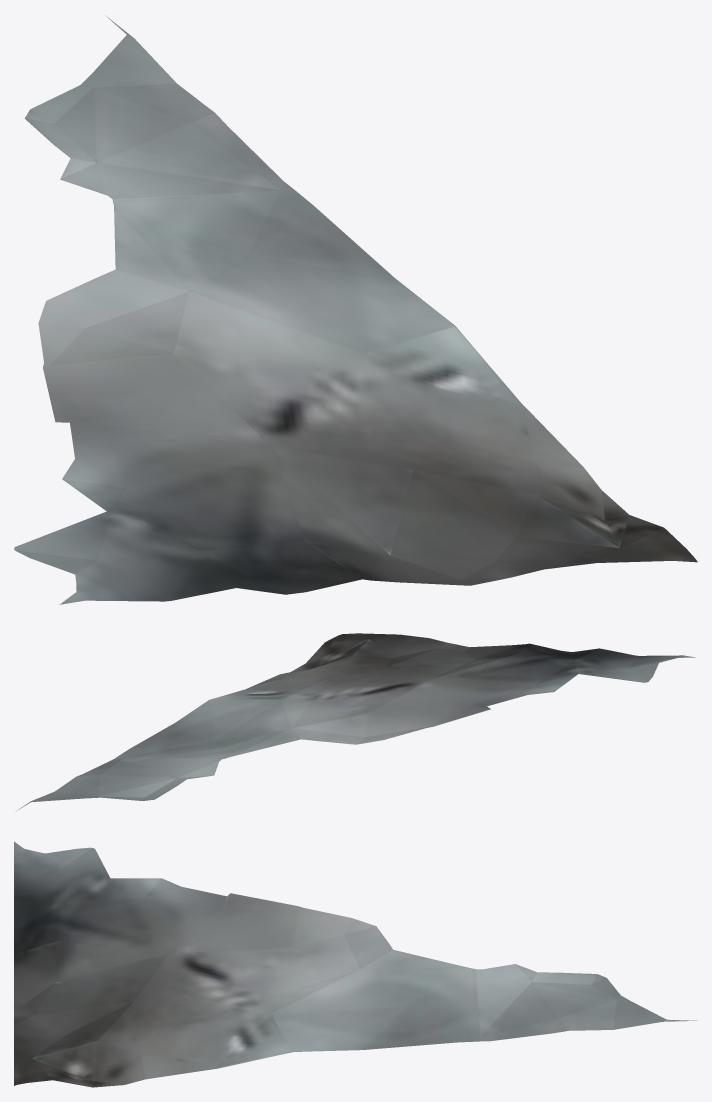
3 views of the same model, one above another, from view 1: azimuth 30°, elevation 25°; view 2: azimuth 150°, elevation 25°; view 3: azimuth 270°, elevation 25° (orthographic). The views are drawn at different scales.
Bounding box in the file's own units: 0.5606 × 0.0975 × 0.9033.
Materials: 1 (1 with a texture image).
